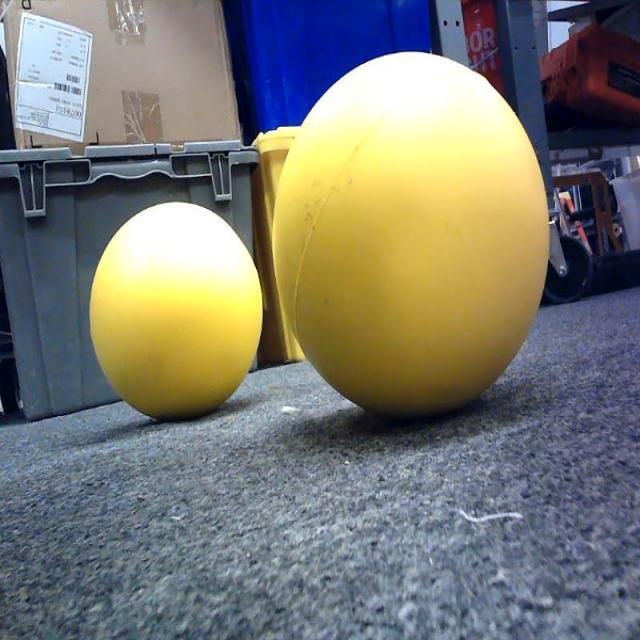Fuel: (272, 50, 550, 422), (89, 201, 263, 423)
